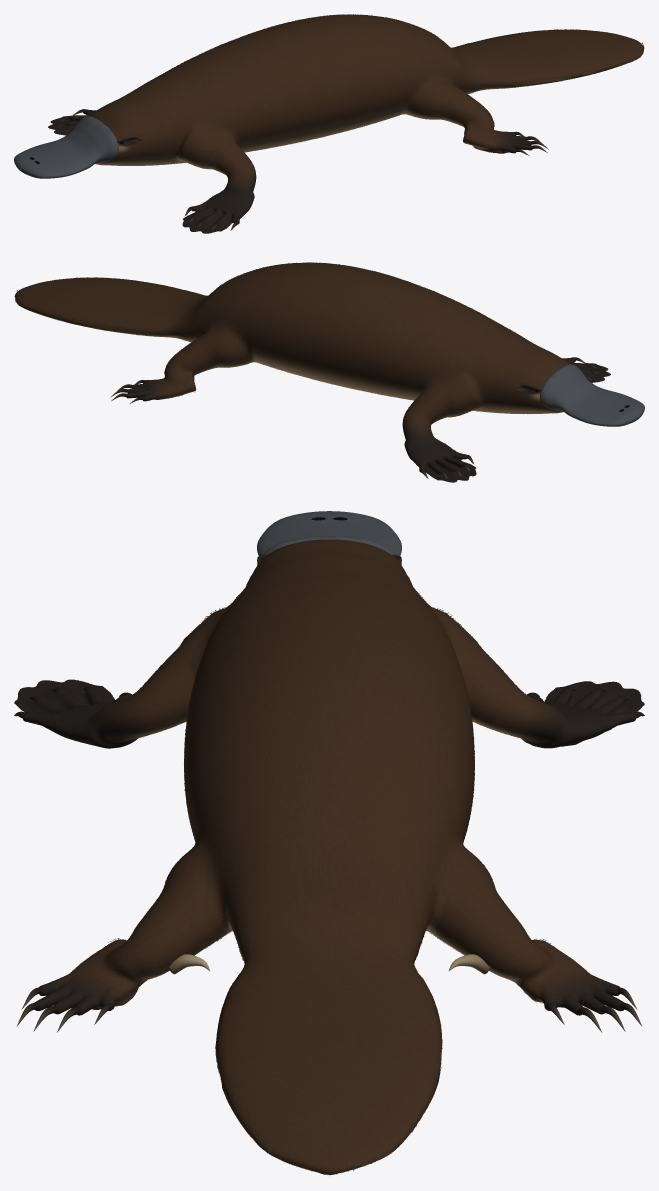
Rendered from platypus.glb.
The picture shows the model from 3 angles, top to bottom: view 1: azimuth 30°, elevation 25°; view 2: azimuth 150°, elevation 25°; view 3: azimuth 270°, elevation 25°; orthographic projection. The views are drawn at different scales.
Visible parts, largest first — view 1: Cage | continuous skin, Coat | compact guard hairs, Cage | Bill | soft rostrum and frontal shield; view 2: Cage | continuous skin, Coat | compact guard hairs, Cage | Bill | soft rostrum and frontal shield; view 3: Cage | continuous skin, Coat | compact guard hairs, Cage | Bill | soft rostrum and frontal shield.
Boxes of the visible parts, box(x1,y1,x2,y2) form: Cage | continuous skin: box(48, 14, 644, 233); Coat | compact guard hairs: box(91, 14, 644, 186); Cage | Bill | soft rostrum and frontal shield: box(14, 116, 118, 178); Cage | continuous skin: box(15, 262, 610, 482); Coat | compact guard hairs: box(14, 262, 567, 443); Cage | Bill | soft rostrum and frontal shield: box(540, 364, 644, 426); Cage | continuous skin: box(14, 539, 644, 1174); Coat | compact guard hairs: box(57, 539, 596, 1175); Cage | Bill | soft rostrum and frontal shield: box(257, 511, 401, 564).
Bounding box in the file's own units: 0.5045 × 0.0844 × 0.2215.
Materials: 7 (2 with a texture image).
